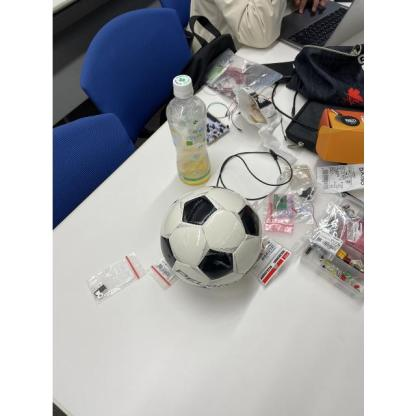ball: (159, 185, 262, 288)
